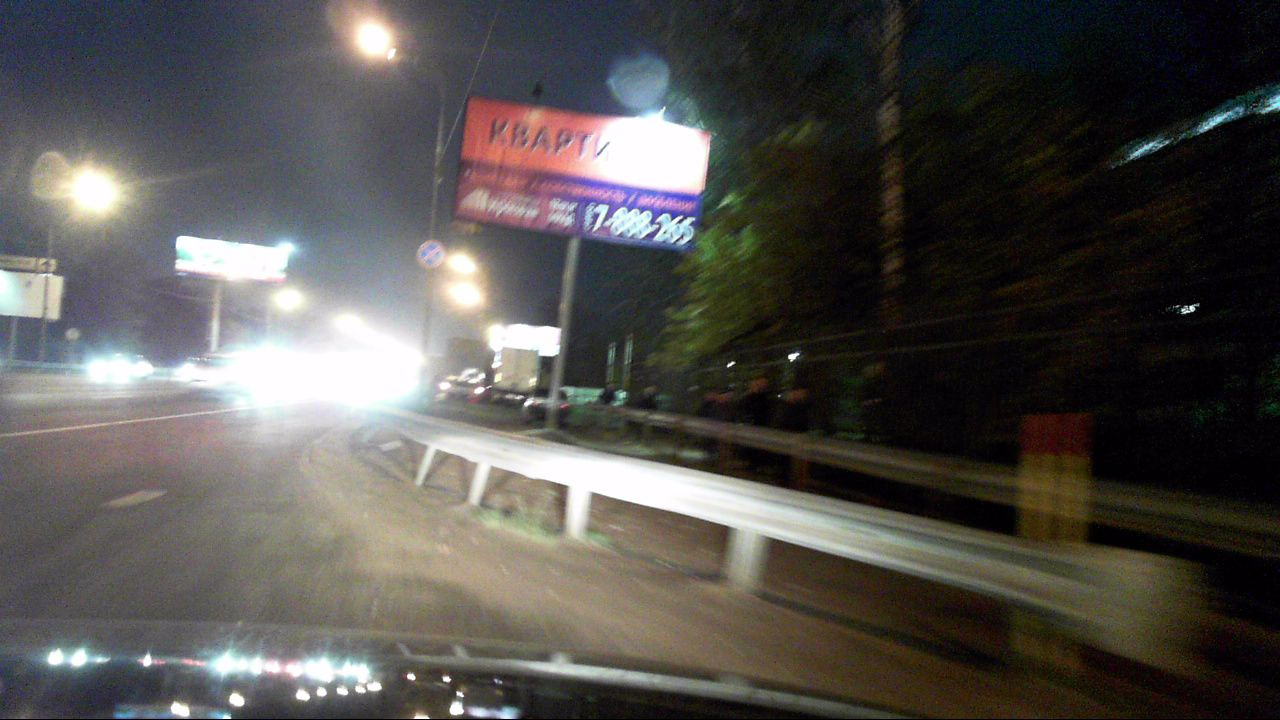No Parking: (416, 239, 444, 269)
